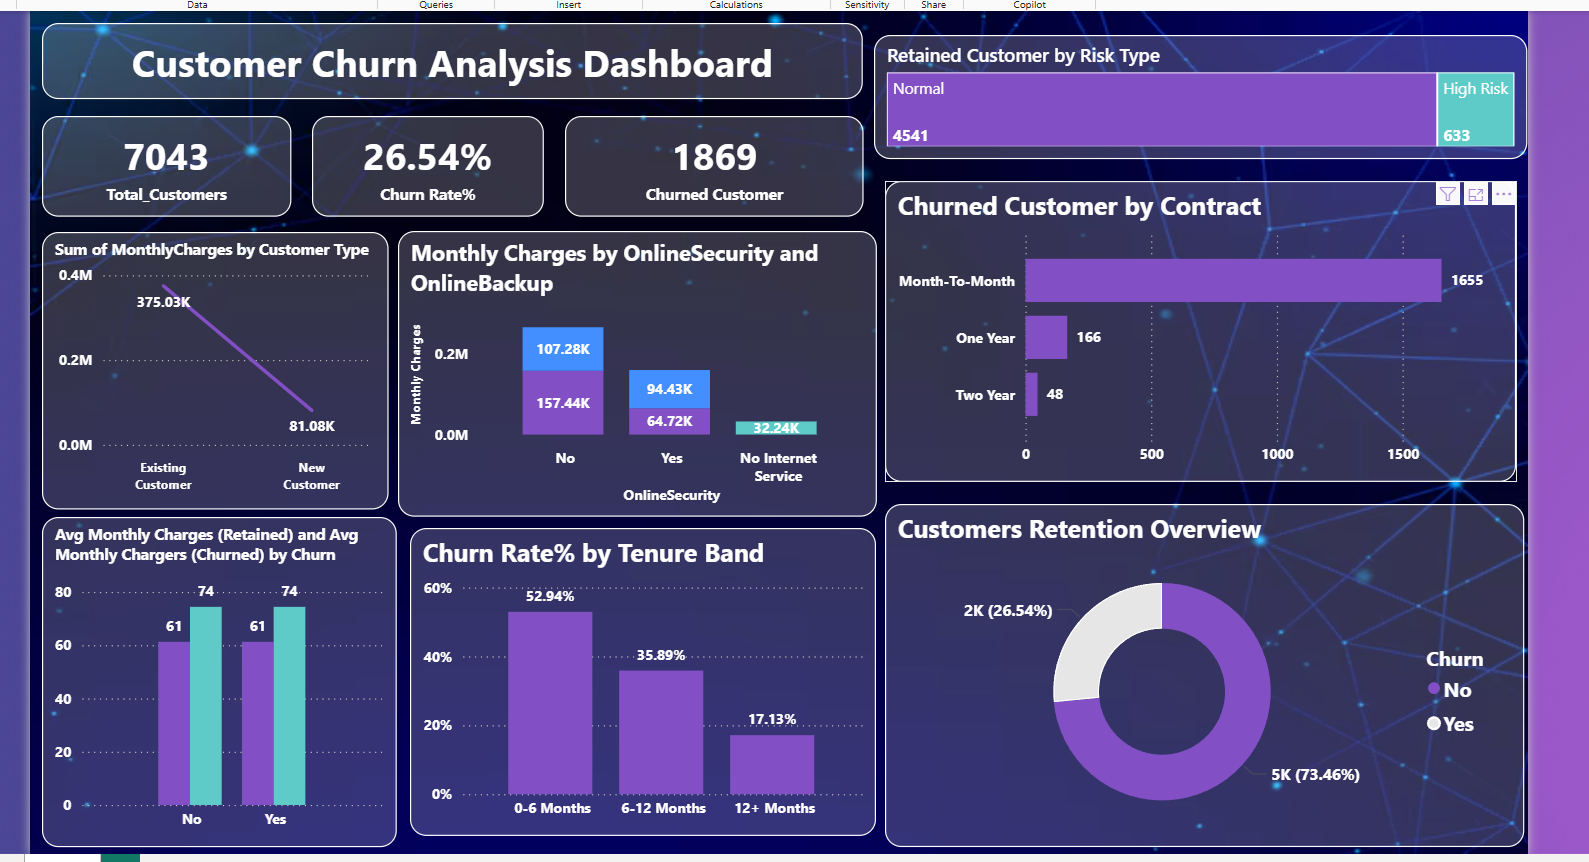

This screenshot's page, from the dashboard's own definition file:
{"tool":"powerbi","page":{"name":"Page 1","canvas":[1280,720],"ordinal":0},"visuals":[{"type":"textbox","box":[10.6,10.6,701.4,64.7],"z":0},{"type":"treemap","fields":{"Values":["Measure.Retained Customer"],"Group":["telco_churn_unclean.Risk Type"]},"box":[720.9,20.4,557.7,106.4],"z":1000},{"type":"card","fields":{"Values":["Measure.Total_Customers"]},"box":[10.6,89.6,212.8,86],"z":2000},{"type":"card","fields":{"Values":["Measure.Churn Rate%"]},"box":[241.2,89.6,197.7,86],"z":3000},{"type":"card","fields":{"Values":["Measure.Churned Customer"]},"box":[456.7,89.6,255.4,86],"z":3001},{"type":"donutChart","title":"Customers Retention Overview","fields":{"Y":["Measure.Total_Customers"],"Category":["telco_churn_unclean.Churn"]},"box":[730.6,421.2,546.2,292.6],"z":3002},{"type":"barChart","fields":{"Y":["Measure.Churned Customer"],"Category":["telco_churn_unclean.Contract"]},"box":[730.6,145.4,539.1,257.1],"z":3003},{"type":"columnChart","title":"Monthly Charges by OnlineSecurity and OnlineBackup","fields":{"Y":["Sum(telco_churn_unclean.MonthlyCharges)"],"Category":["telco_churn_unclean.OnlineSecurity"],"Series":["telco_churn_unclean.OnlineBackup"]},"box":[313.9,188,408.8,243.8],"z":3004},{"type":"columnChart","fields":{"Y":["Measure.Churn Rate%"],"Category":["telco_churn_unclean.Tenure Band"]},"box":[324.5,441.6,398.1,263.3],"z":3005},{"type":"clusteredColumnChart","title":"Avg Monthly Charges (Retained) and Avg Monthly Chargers (Churned) by Churn","fields":{"Category":["telco_churn_unclean.Churn"],"Y":["Measure.Avg MOnthly Charges (REtained)","Measure.Avg MOnthly CHargers (Churned)"]},"box":[10.6,431.8,303.3,282],"z":3006},{"type":"lineChart","title":"Sum of MonthlyCharges by Customer Type","fields":{"Y":["Sum(telco_churn_unclean.MonthlyCharges)"],"Category":["telco_churn_unclean.Customer Type(NEW/Existing)"]},"box":[10.6,188.9,296.2,236.7],"z":3007}]}

Visuals, with their boxes in screenshot pixels (x1, y1, x2, y2):
textbox: {"left": 33, "top": 21, "right": 860, "bottom": 97}
treemap - Measure.Retained Customer x telco_churn_unclean.Risk Type: {"left": 871, "top": 32, "right": 1528, "bottom": 158}
card - Measure.Total_Customers: {"left": 33, "top": 114, "right": 284, "bottom": 215}
card - Measure.Churn Rate%: {"left": 305, "top": 114, "right": 538, "bottom": 215}
card - Measure.Churned Customer: {"left": 559, "top": 114, "right": 860, "bottom": 215}
"Customers Retention Overview" donutChart: {"left": 882, "top": 505, "right": 1526, "bottom": 850}
barChart - Measure.Churned Customer x telco_churn_unclean.Contract: {"left": 882, "top": 180, "right": 1518, "bottom": 483}
"Monthly Charges by OnlineSecurity and OnlineBackup" columnChart: {"left": 391, "top": 230, "right": 873, "bottom": 517}
columnChart - Measure.Churn Rate% x telco_churn_unclean.Tenure Band: {"left": 403, "top": 529, "right": 873, "bottom": 839}
"Avg Monthly Charges (Retained) and Avg Monthly Chargers (Churned) by Churn" clusteredColumnChart: {"left": 33, "top": 517, "right": 391, "bottom": 850}
"Sum of MonthlyCharges by Customer Type" lineChart: {"left": 33, "top": 231, "right": 382, "bottom": 510}
